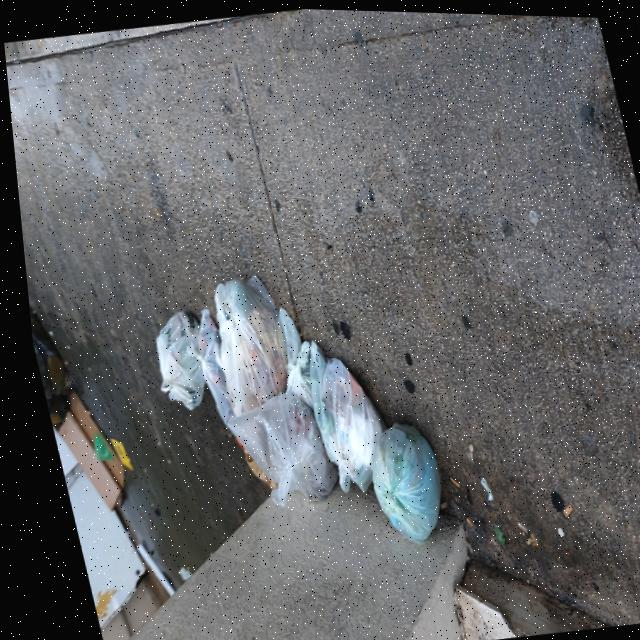Mixed Waste -Black Bag-: (23, 287, 69, 409)
Organic Waste -White Bag-: (292, 333, 396, 504), (197, 260, 296, 417), (213, 394, 326, 523), (349, 417, 451, 546), (136, 301, 207, 419), (258, 289, 316, 412), (177, 305, 234, 429)
Other: (40, 383, 128, 534), (99, 430, 127, 475), (80, 427, 107, 471)
